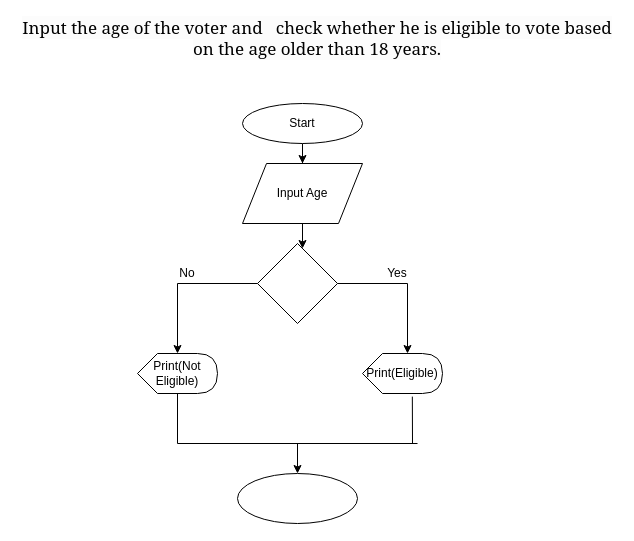
The diagram is 634 pixels wide and 541 high, and some of its shapes have lost their labels. Each missing label, with the box of its shape:
if Age>18: (256, 242, 338, 324)
Stop: (236, 472, 358, 524)
